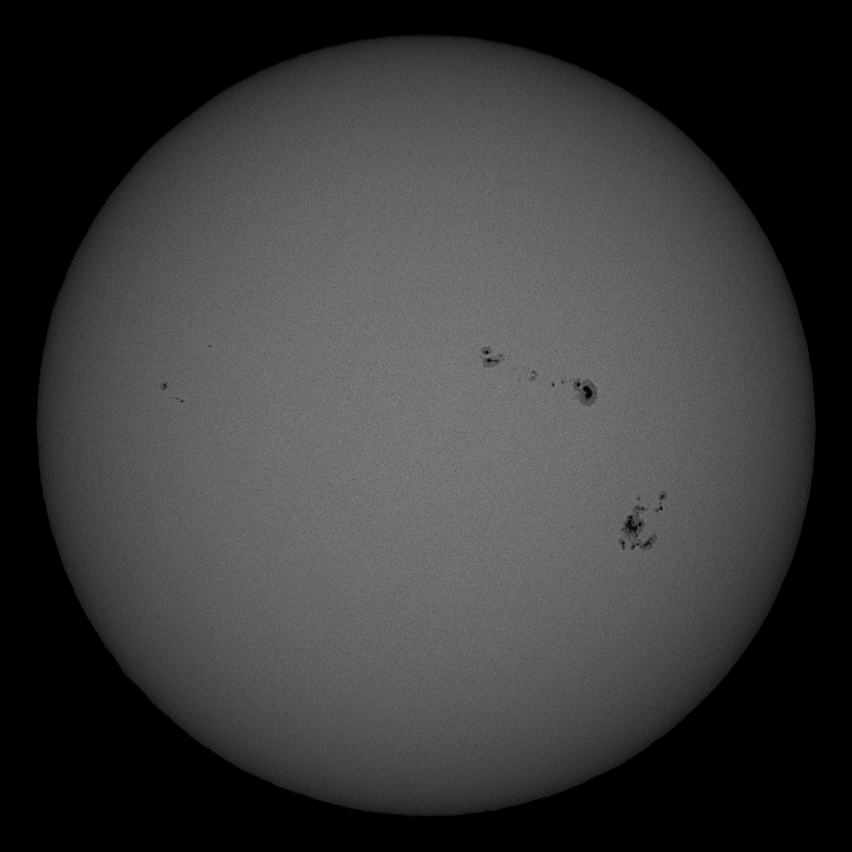sunspot: (476, 343, 601, 408), (618, 488, 670, 557), (157, 377, 189, 406), (205, 339, 213, 347)
